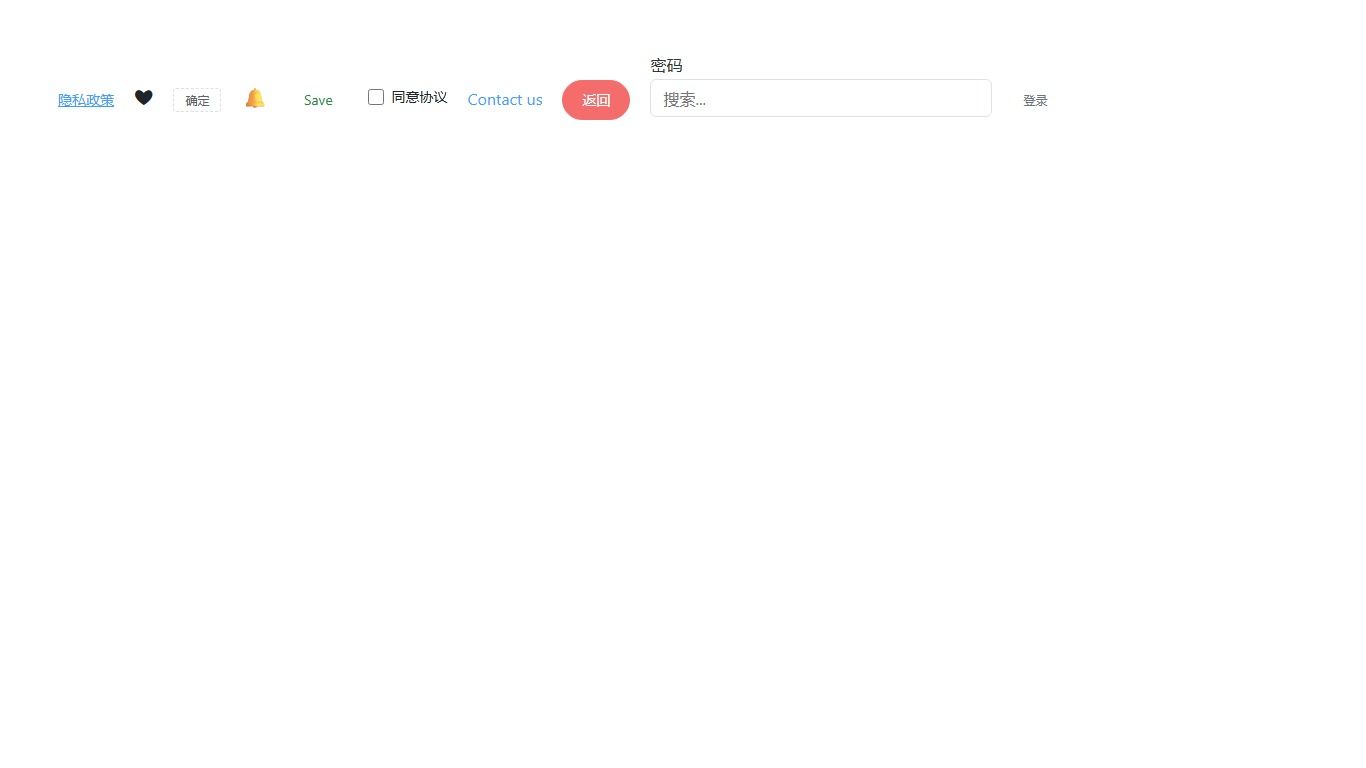button: (562, 79, 630, 119), (289, 84, 347, 114), (173, 87, 221, 111), (1012, 88, 1058, 110)
checkbox: (367, 89, 383, 104)
icon: (391, 87, 448, 106), (241, 86, 269, 107), (134, 86, 153, 107)
input: (650, 79, 992, 117)
link: (468, 87, 542, 108), (58, 89, 114, 108)
radio: (367, 87, 447, 106)
